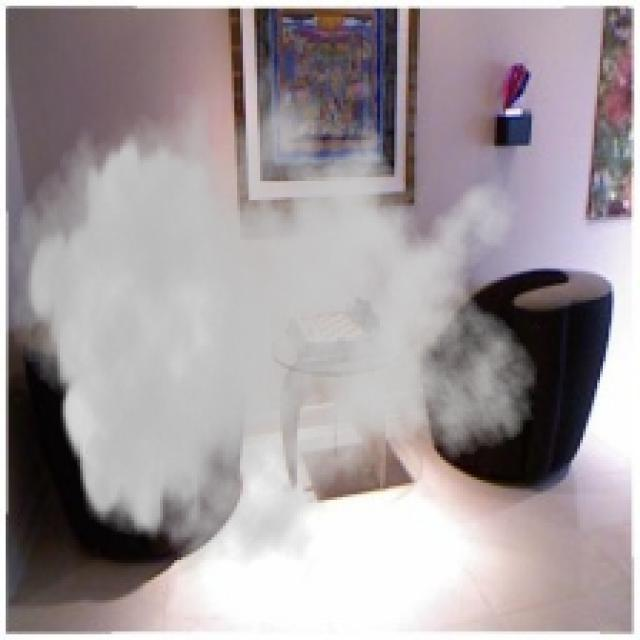Smoke: (8, 29, 540, 592)
